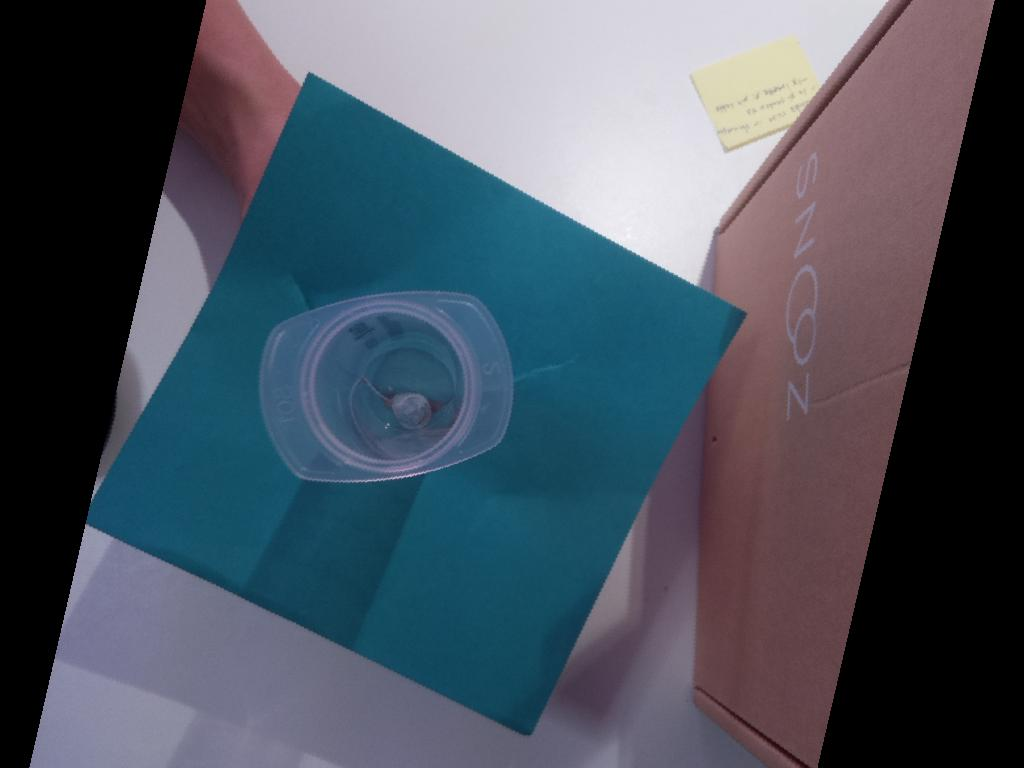clean: (257, 291, 516, 484)
